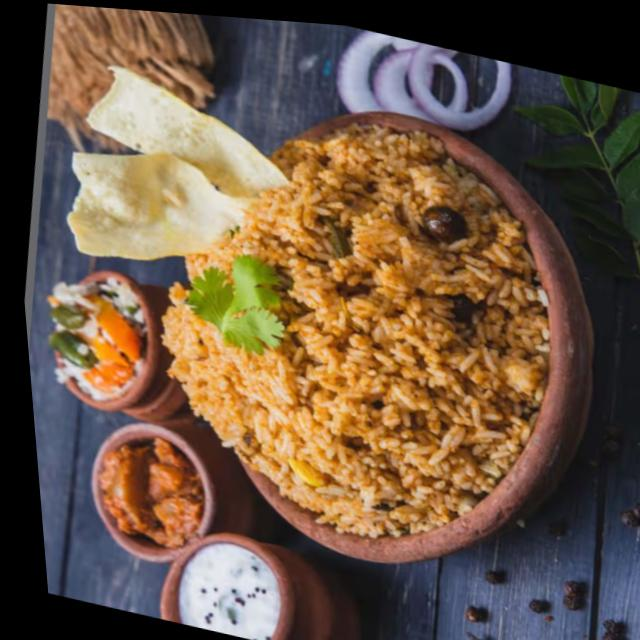PAPADAM: (71, 64, 306, 259)
PICKLE: (98, 441, 197, 548)
RICE: (161, 121, 544, 534)
